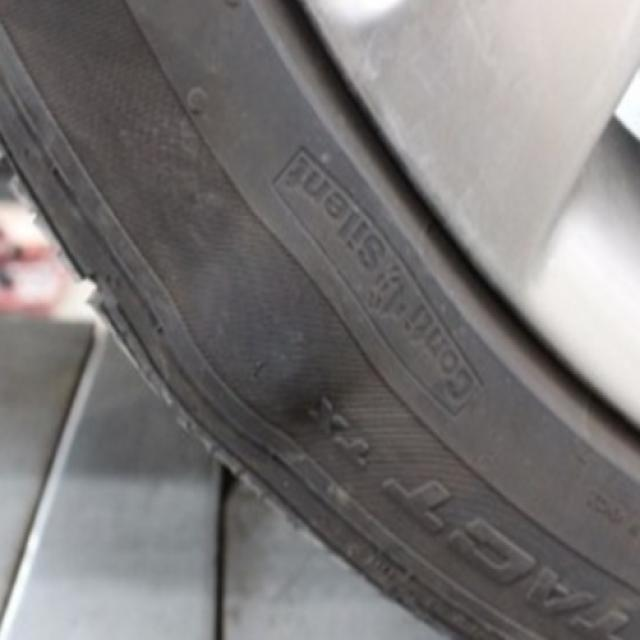Bulge: (154, 218, 376, 462)
